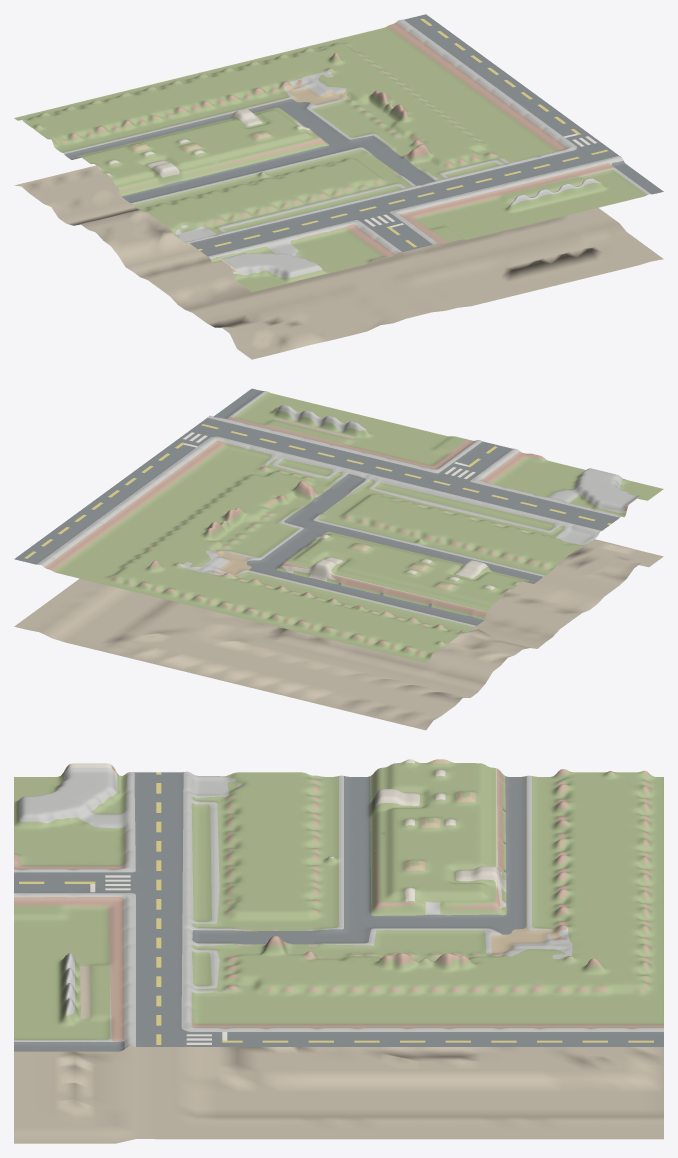
The picture shows the model from 3 angles, top to bottom: view 1: azimuth 30°, elevation 25°; view 2: azimuth 150°, elevation 25°; view 3: azimuth 270°, elevation 25°; orthographic projection. The views are drawn at different scales.
Visible parts, largest first — view 1: s_-6_-5__grass, s_-6_-5__soil, s_-6_-5__asphalt, s_-6_-5__stone_paving, s_-6_-5__brick_paving, s_-6_-5__timber_deck, s_-6_-5__yellow_marking, s_-6_-5__paving; view 2: s_-6_-5__grass, s_-6_-5__soil, s_-6_-5__asphalt, s_-6_-5__stone_paving, s_-6_-5__brick_paving, s_-6_-5__paving, s_-6_-5__yellow_marking, s_-6_-5__timber_deck; view 3: s_-6_-5__grass, s_-6_-5__soil, s_-6_-5__asphalt, s_-6_-5__stone_paving, s_-6_-5__brick_paving, s_-6_-5__paving, s_-6_-5__timber_deck, s_-6_-5__yellow_marking, s_-6_-5__white_marking.
Boxes of the visible parts, box(x1,y1,x2,y2) form: s_-6_-5__grass: box(14, 26, 646, 292); s_-6_-5__soil: box(14, 92, 663, 359); s_-6_-5__asphalt: box(64, 14, 663, 256); s_-6_-5__stone_paving: box(62, 19, 650, 277); s_-6_-5__brick_paving: box(21, 22, 613, 271); s_-6_-5__timber_deck: box(65, 83, 344, 169); s_-6_-5__yellow_marking: box(198, 18, 607, 250); s_-6_-5__paving: box(86, 109, 310, 273); s_-6_-5__grass: box(53, 392, 663, 662); s_-6_-5__soil: box(14, 418, 663, 730); s_-6_-5__asphalt: box(14, 388, 619, 625); s_-6_-5__stone_paving: box(37, 391, 638, 626); s_-6_-5__brick_paving: box(44, 417, 627, 656); s_-6_-5__paving: box(281, 494, 642, 611); s_-6_-5__yellow_marking: box(24, 424, 611, 558); s_-6_-5__timber_deck: box(214, 543, 508, 622); s_-6_-5__grass: box(14, 761, 663, 1039); s_-6_-5__soil: box(14, 881, 663, 1143); s_-6_-5__asphalt: box(14, 772, 663, 1051); s_-6_-5__stone_paving: box(14, 767, 663, 1048); s_-6_-5__brick_paving: box(14, 764, 663, 1041); s_-6_-5__paving: box(64, 759, 506, 908); s_-6_-5__timber_deck: box(405, 759, 561, 955); s_-6_-5__yellow_marking: box(19, 772, 653, 1044); s_-6_-5__white_marking: box(90, 875, 227, 1044).
Size of the model in its own units: 128 by 24.01 by 128.
